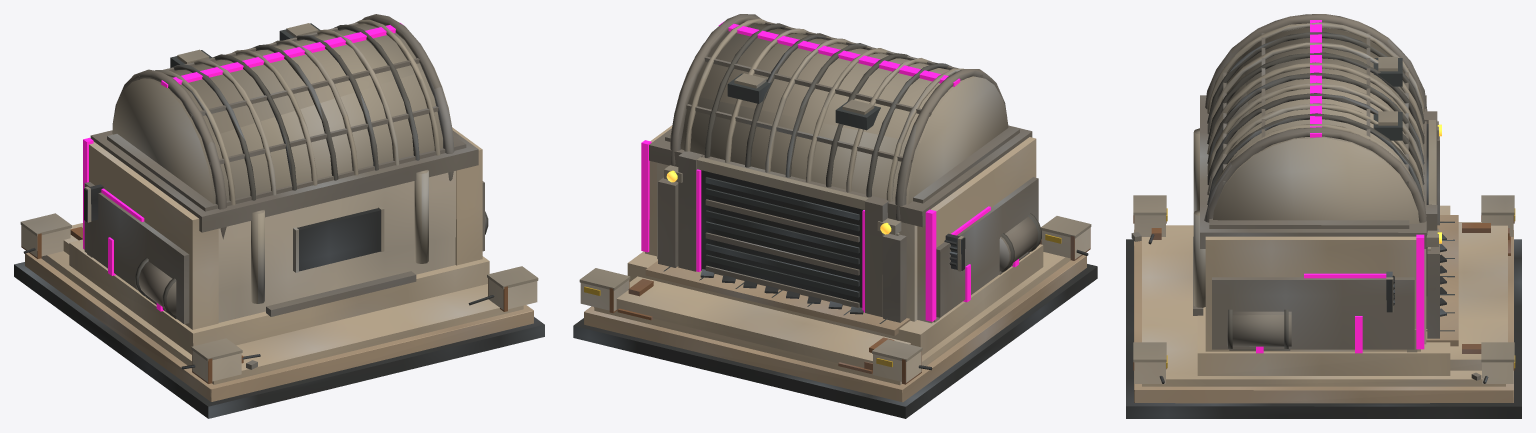
File: factory.glb
The picture shows the model from 3 angles, left to right: view 1: azimuth 30°, elevation 25°; view 2: azimuth 150°, elevation 25°; view 3: azimuth 270°, elevation 25°; orthographic projection. The views are drawn at different scales.
Visible parts, largest first — view 1: Sandwar3D; view 2: Sandwar3D; view 3: Sandwar3D.
Part boxes in pixels (left/top/right/bottom): Sandwar3D: left=14, top=14, right=544, bottom=418; Sandwar3D: left=573, top=14, right=1097, bottom=418; Sandwar3D: left=1126, top=14, right=1521, bottom=418.
Size of the model in its own units: 3.1 by 2.18 by 2.96.
Materials: 12 (11 with a texture image).
